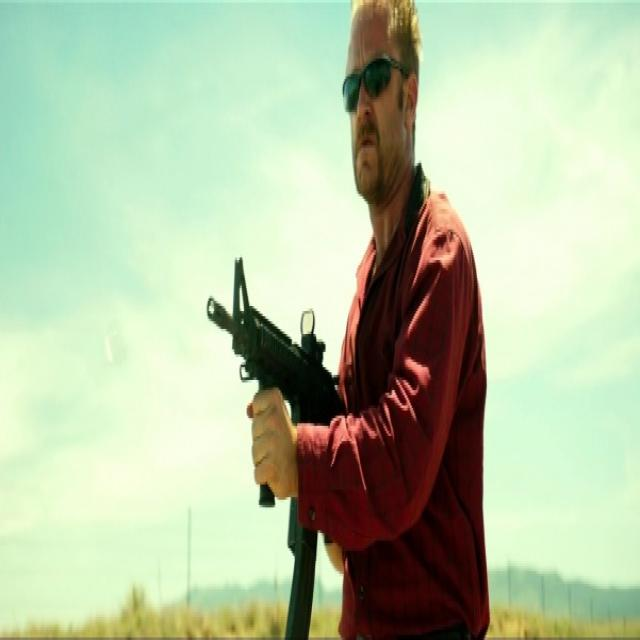rifle: (202, 242, 339, 640)
